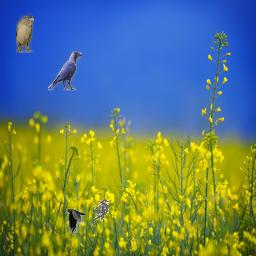Crow: (48, 51, 82, 91), (66, 209, 85, 233)
Sparrow: (16, 13, 34, 53)
Woodpecker: (92, 200, 109, 221)
